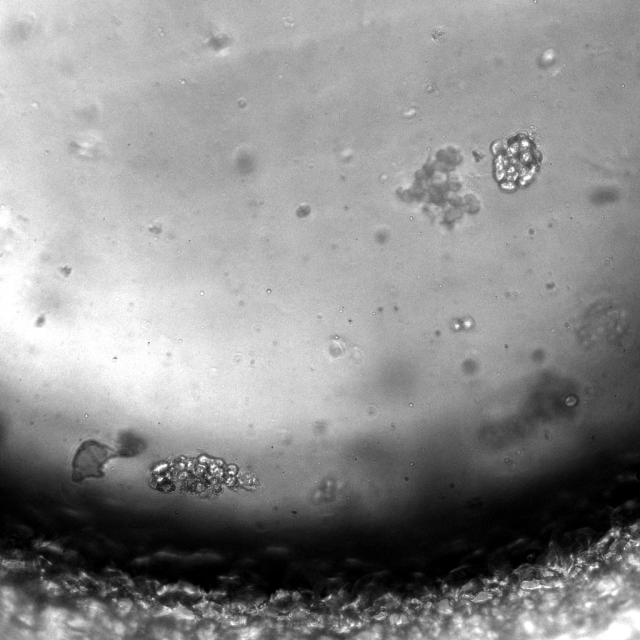organoid: (396, 146, 481, 229), (149, 454, 258, 497), (490, 131, 542, 192)
